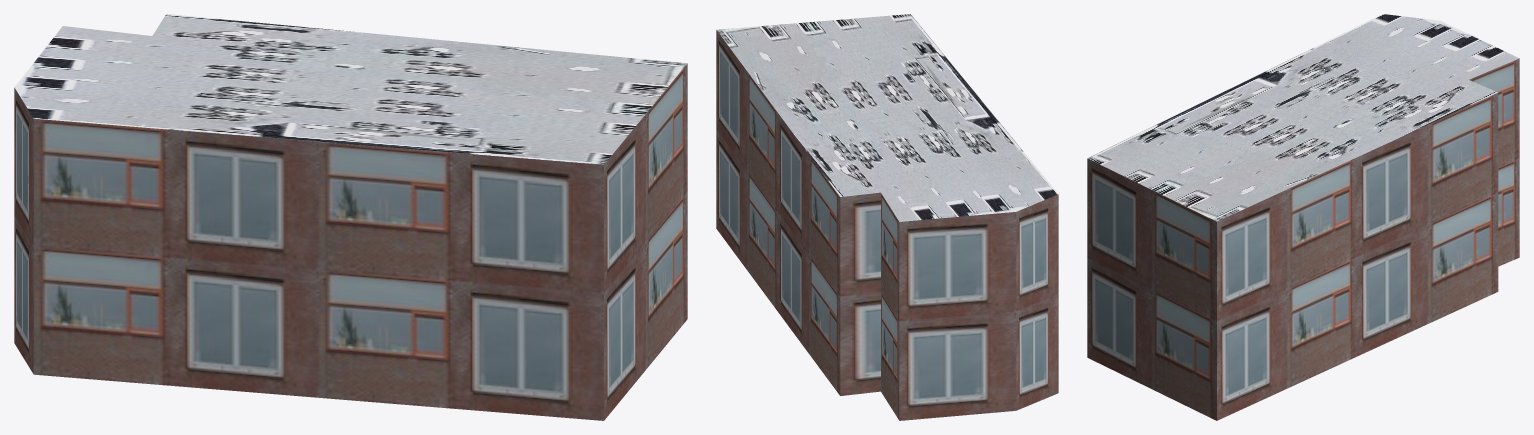
Rendered from ResTex__2779.fbx.
The picture shows the model from 3 angles, left to right: view 1: azimuth 30°, elevation 25°; view 2: azimuth 150°, elevation 25°; view 3: azimuth 270°, elevation 25°; orthographic projection. The views are drawn at different scales.
Visible parts, largest first — view 1: CityEngineMaterial_19_m, CityEngineMaterial_15_m; view 2: CityEngineMaterial_19_m, CityEngineMaterial_15_m; view 3: CityEngineMaterial_19_m, CityEngineMaterial_15_m.
Boxes of the visible parts, <box> form: CityEngineMaterial_19_m: <box>14,63,687,420</box>; CityEngineMaterial_15_m: <box>14,14,686,164</box>; CityEngineMaterial_19_m: <box>716,30,1058,420</box>; CityEngineMaterial_15_m: <box>716,14,1058,221</box>; CityEngineMaterial_19_m: <box>1087,58,1519,420</box>; CityEngineMaterial_15_m: <box>1087,14,1519,221</box>.
Size of the model in its own units: 13.42 by 6 by 11.8.
2 materials, 2 textured.
